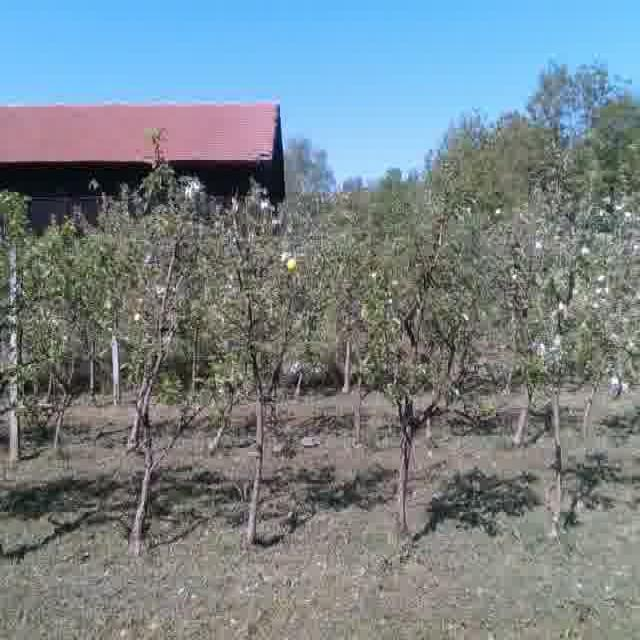yellow: (286, 256, 297, 272)
